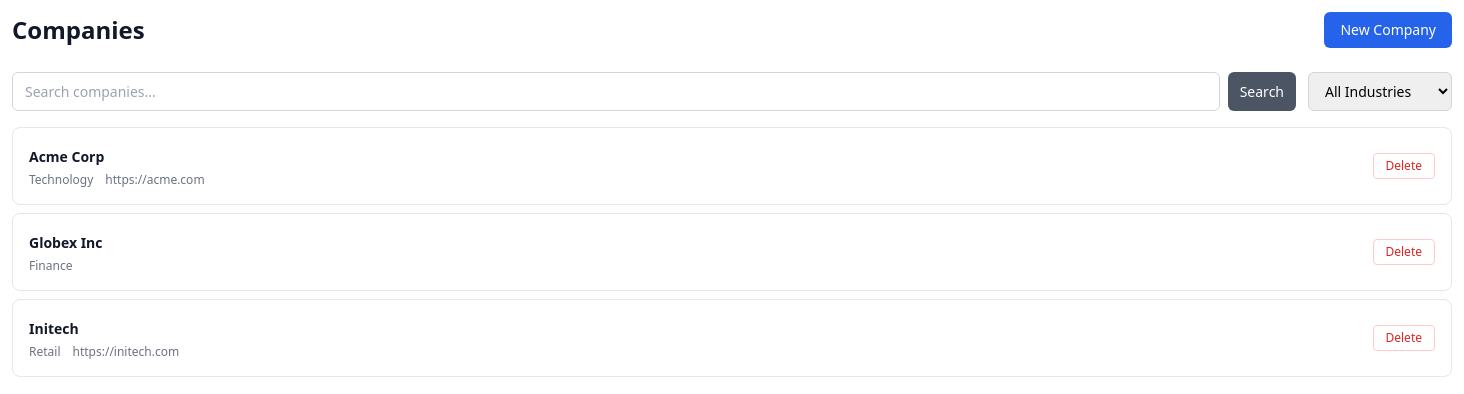
CompaniesPage — industry filter › US3-AC1: selecting an industry filter shows only matching companies
Expected: the link "Acme Corp" is shown, left=29, top=147, right=104, bottom=166
Select "Technology" in the dropdown named "filter by industry". click: [1380, 92]
box: left=1308, top=72, right=1452, bottom=111
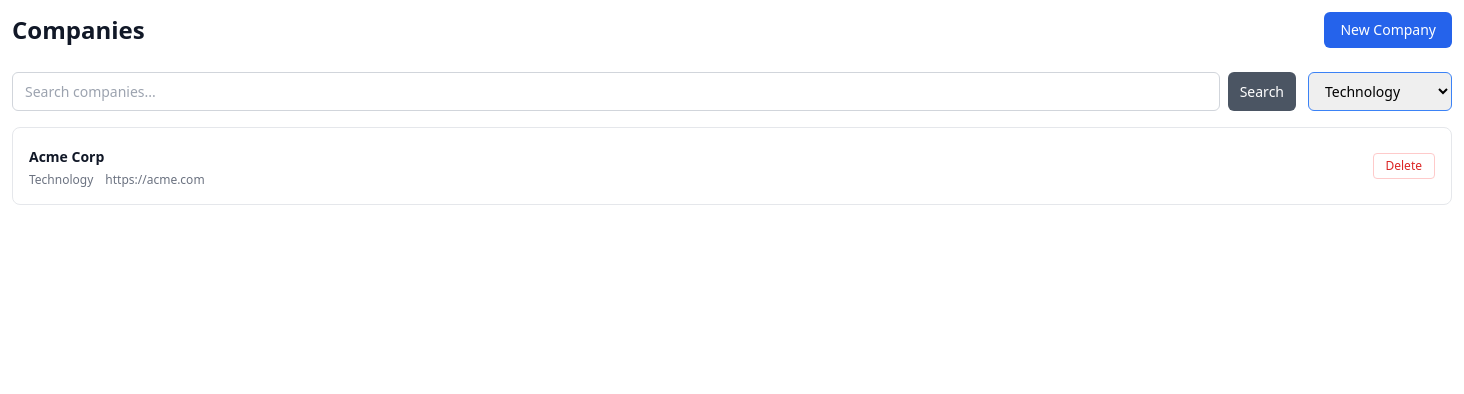
Expected: the link "Acme Corp" is shown, left=29, top=147, right=104, bottom=166
Now the link "Globex Inc" is gone
